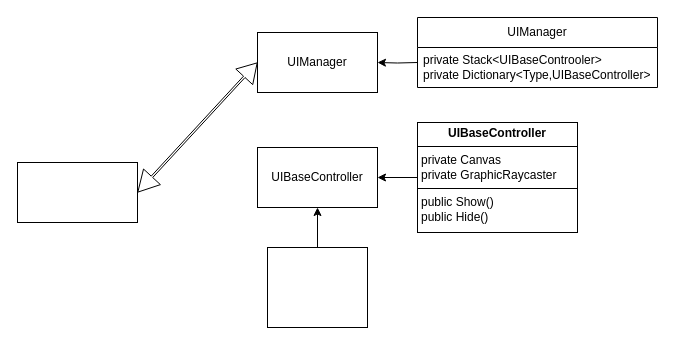
Image size: 675x345. Some labels were removed from this diagram. Here are the shapes that lost their labels. From the top down, the centre of each, then its label:
(77,192): 특정 Controller
(317,287): IPanel void Show() void Hide() void IsShow()
